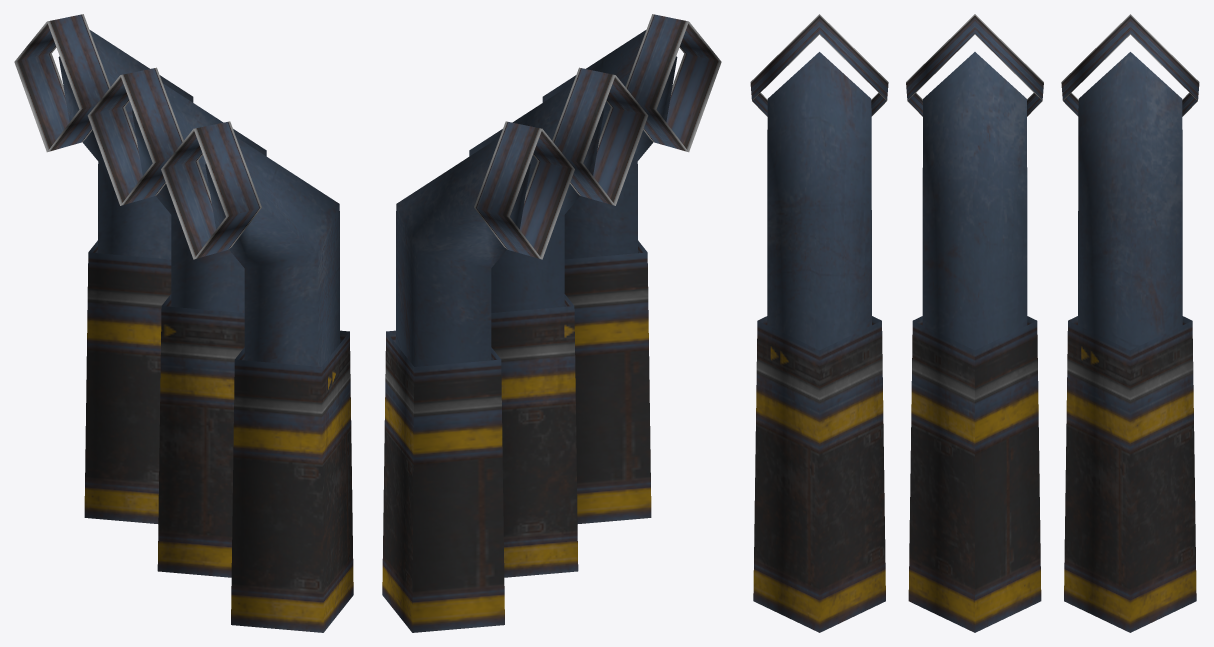
File: Pipe3_End1_L2.fbx
3 renders of one model, left to right at view 1: azimuth 30°, elevation 25°; view 2: azimuth 150°, elevation 25°; view 3: azimuth 270°, elevation 25°, orthographic. The views are drawn at different scales.
Visible parts, largest first — view 1: PIpe5_End1_L2; view 2: PIpe5_End1_L2; view 3: PIpe5_End1_L2.
Boxes of the visible parts, left/top/right/bottom form: PIpe5_End1_L2: left=14, top=14, right=353, bottom=632; PIpe5_End1_L2: left=382, top=14, right=721, bottom=632; PIpe5_End1_L2: left=750, top=14, right=1199, bottom=632.
Bounding box in the file's own units: 21.04 × 63.39 × 48.12.
